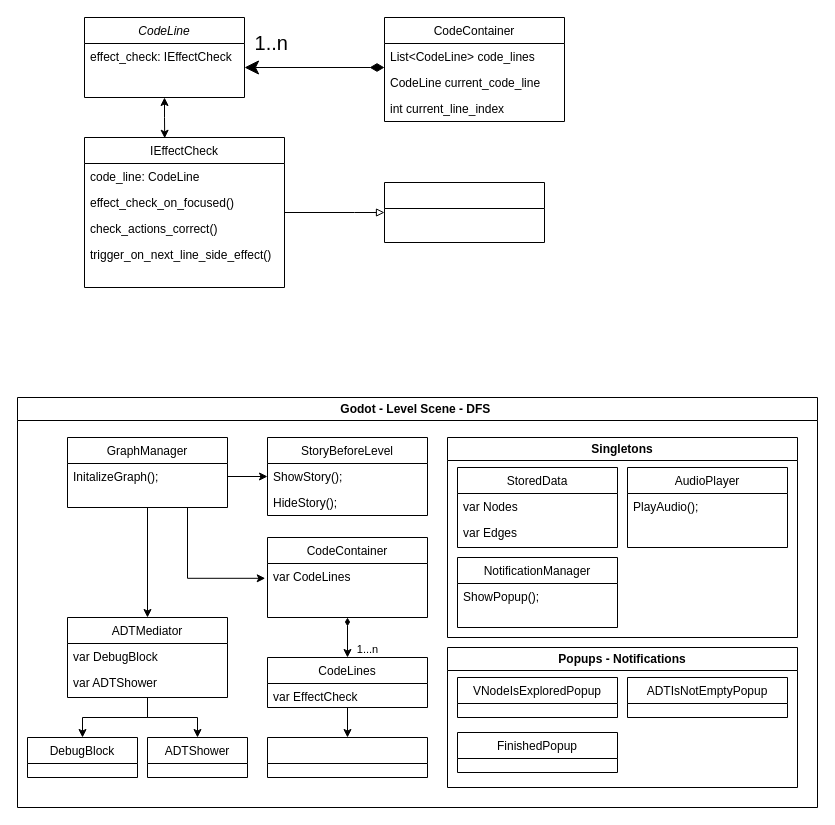
Image size: 835x825. Some labels were removed from this diagram. Each missing label, with the centre of its shape:
"CodeEffectImplementation" belongs at (x=464, y=212).
"EffectCheck" belongs at (x=347, y=757).
